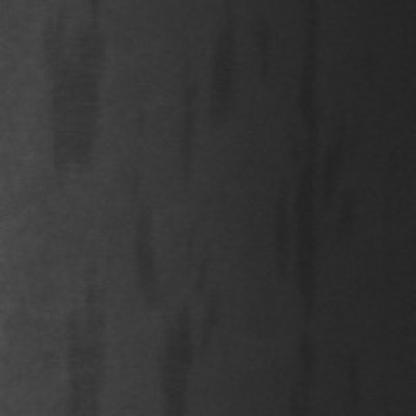inclusion: (270, 0, 353, 401), (127, 191, 216, 410), (35, 0, 105, 164), (52, 250, 108, 412), (198, 0, 250, 129), (168, 77, 202, 187)
